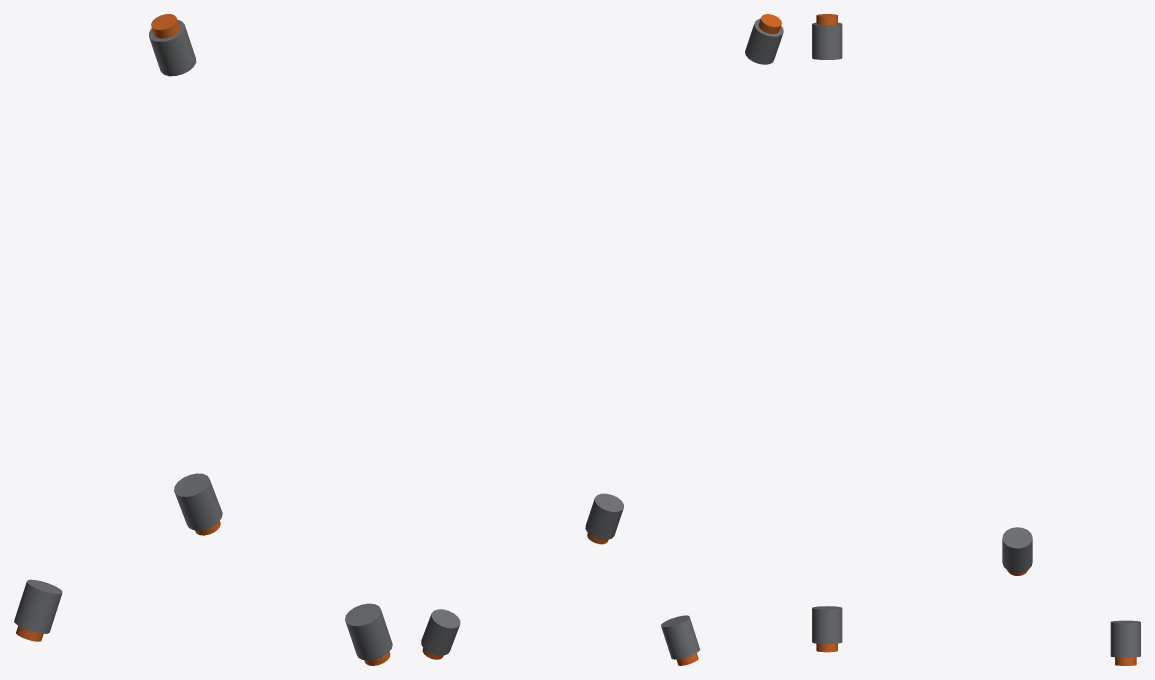
Rendered from u65m_sensors.obj.
3 renders of one model, left to right at view 1: azimuth 30°, elevation 25°; view 2: azimuth 150°, elevation 25°; view 3: azimuth 270°, elevation 25°, orthographic. The views are drawn at different scales.
Visible parts, largest first — view 1: u65m_sensors; view 2: u65m_sensors; view 3: u65m_sensors.
Part boxes in pixels (bbox=[...]): u65m_sensors: bbox=[14, 14, 392, 665]; u65m_sensors: bbox=[421, 14, 783, 665]; u65m_sensors: bbox=[812, 14, 1140, 665].
Bounding box in the file's own units: 1.16 × 2.89 × 1.52.
